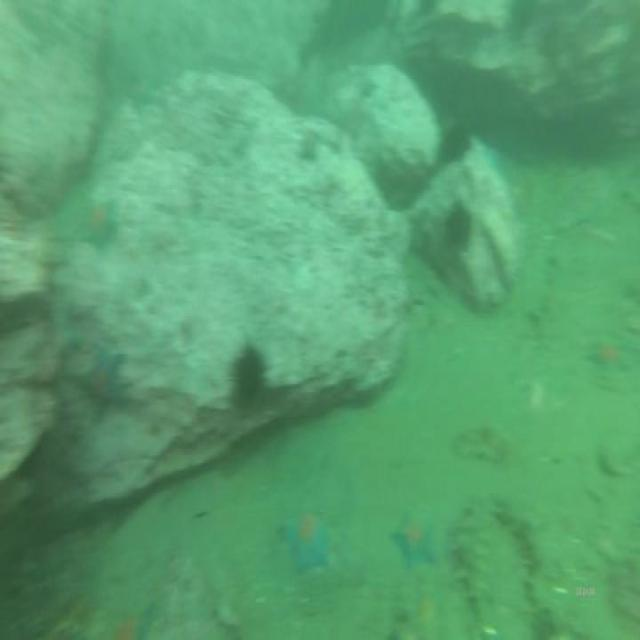echinus: (230, 341, 268, 411), (440, 196, 472, 258), (436, 120, 472, 171)
holothurian: (505, 494, 563, 636), (451, 492, 497, 634), (452, 420, 512, 470)
starfish: (76, 343, 130, 422), (281, 506, 333, 576), (389, 506, 438, 575), (75, 194, 121, 252), (587, 329, 633, 379)
